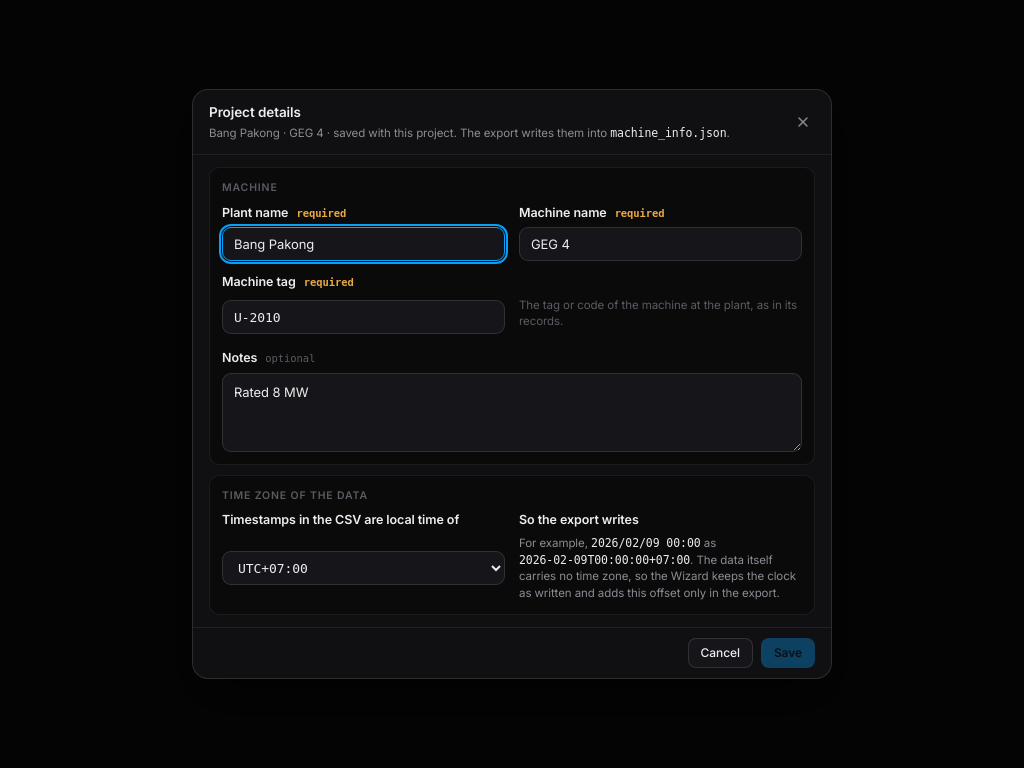
Test case: ProjectDetailsModal › a pair another project uses (not itself) blocks Save with a red reason; its own name never counts
Its own current name is not a duplicate.
Replace the text in the text box with placeholder "What this project is about" with "changed" at (512, 412), box [222, 373, 802, 452]
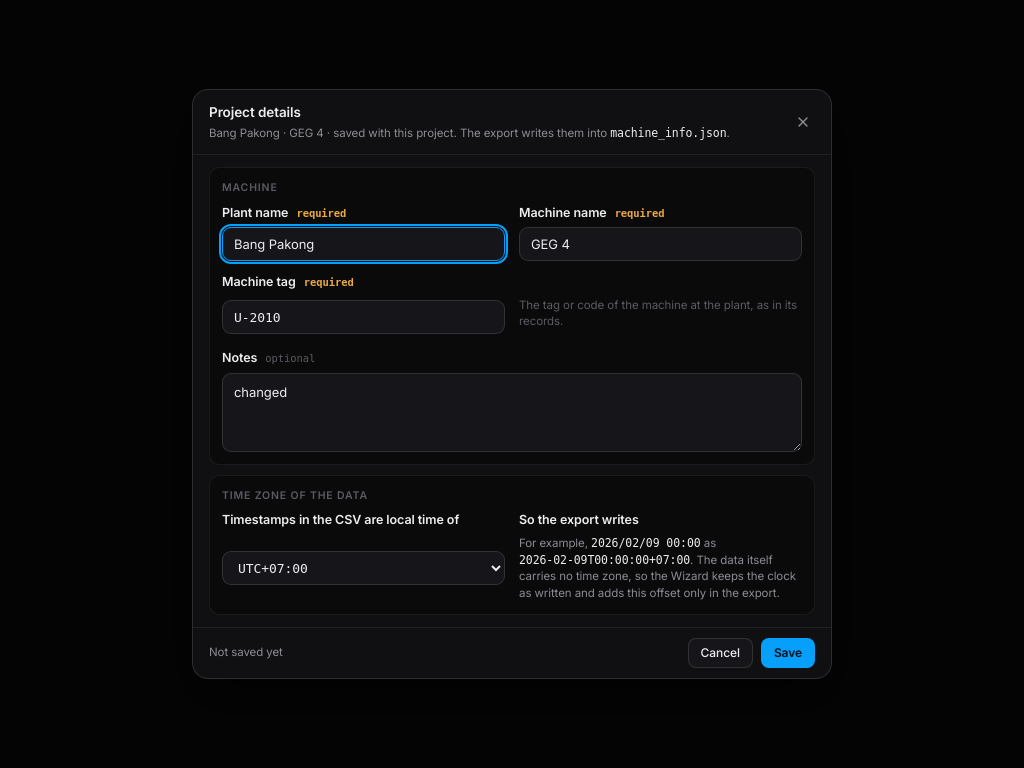
Now the button "Save" is enabled, box [761, 638, 815, 668]
Replace the text in the field with placeholder "e.g. Bang Pakong" with "map ta phut" at (364, 244), box [222, 227, 505, 261]
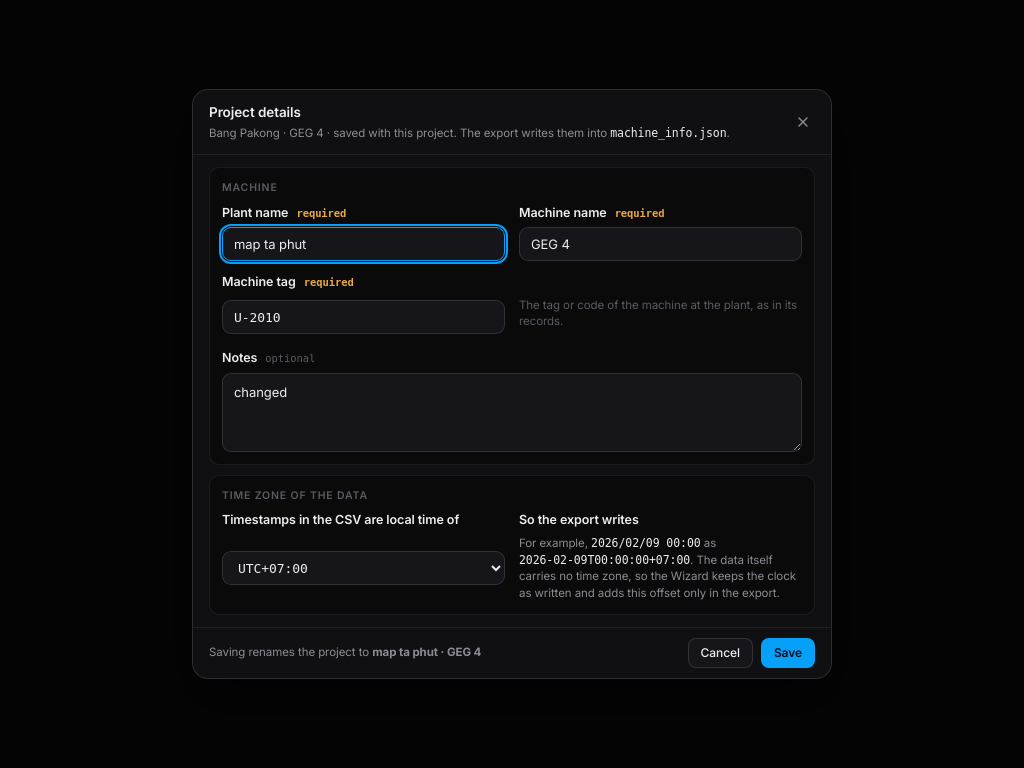
Replace the text in the field with placeholder "e.g. Gas Engine Generator 4" with " GT 11 " at (660, 244), box [519, 227, 802, 261]
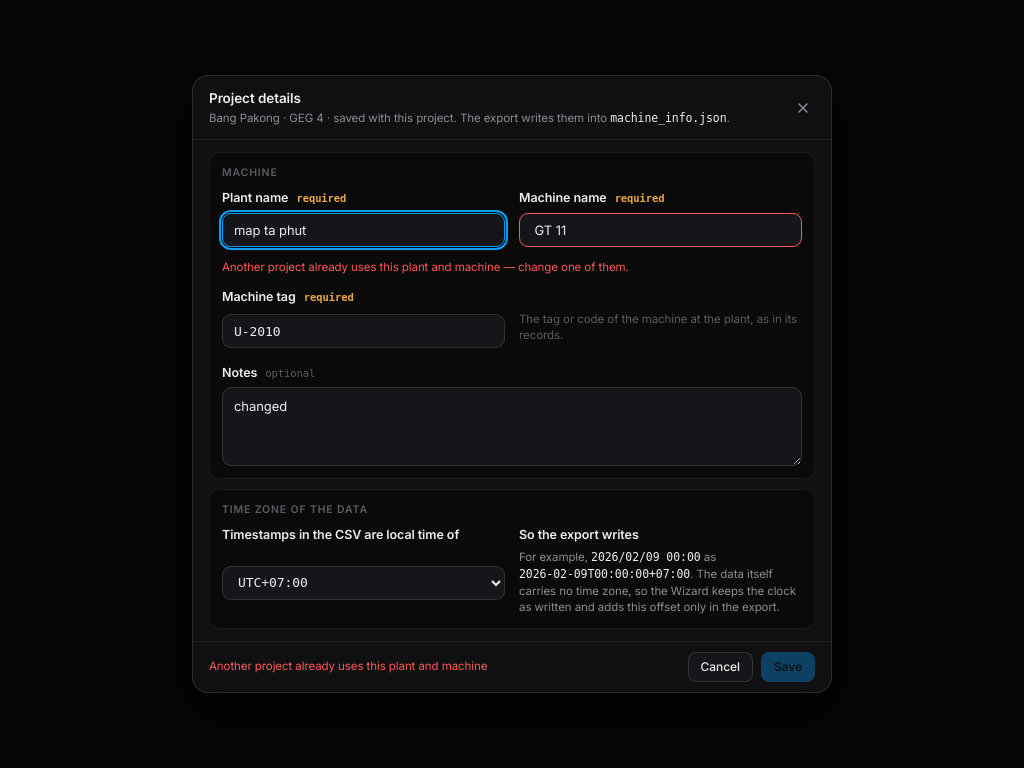
Now the button "Save" is disabled, box [761, 652, 815, 682]
Now the message "Another project already uses this plant and machine" is shown, box [209, 658, 487, 676]
Now the message "Another project already uses this plant and machine — change one of them." is shown, box [222, 260, 629, 274]
